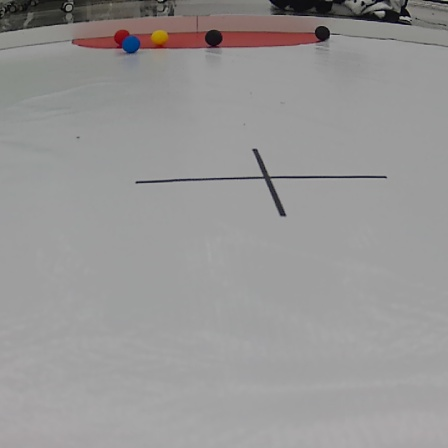black: (201, 26, 224, 50), (311, 25, 332, 43)
blue: (119, 35, 143, 54)
red: (111, 27, 131, 44)
red_base: (69, 31, 328, 50)
yellow: (149, 28, 170, 46)
